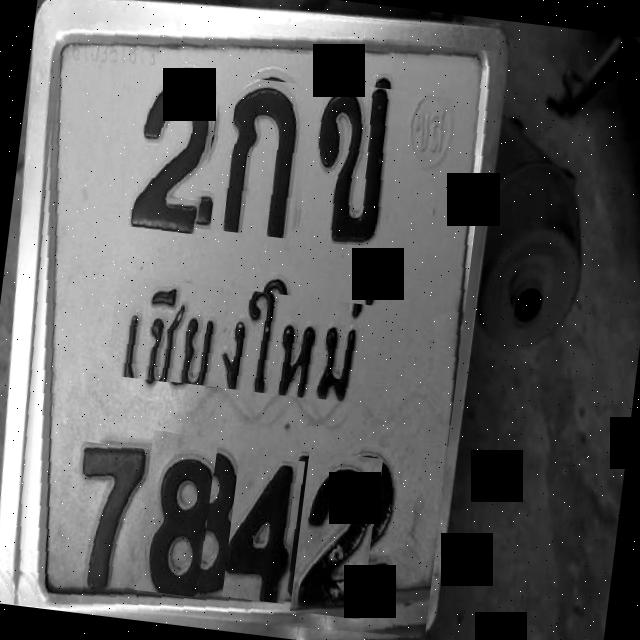letters: (297, 80, 408, 252), (210, 74, 318, 240), (55, 440, 154, 603), (290, 448, 382, 620), (127, 81, 220, 235), (134, 430, 218, 598), (222, 454, 304, 604)
license-plate: (19, 27, 496, 619)
province: (106, 274, 399, 409)
